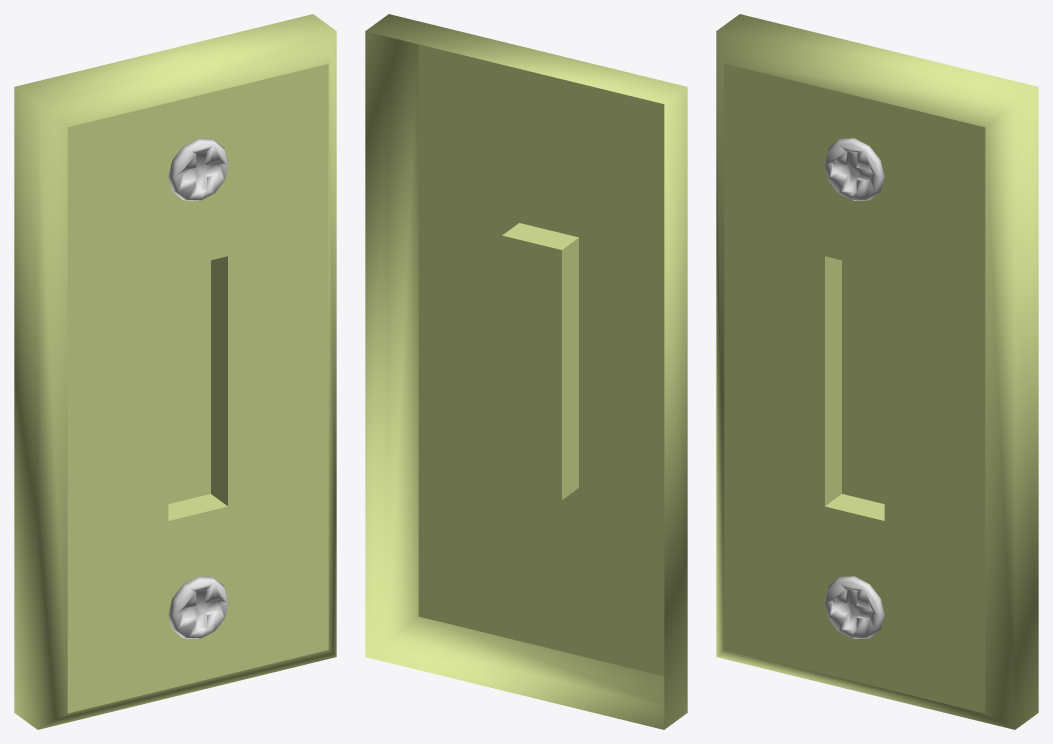
The model's file is light_switch.glb.
3 renders of one model, left to right at view 1: azimuth 30°, elevation 25°; view 2: azimuth 150°, elevation 25°; view 3: azimuth 330°, elevation 25°, orthographic.
Visible parts, largest first — view 1: Panel, TopScrew, BottomScrew; view 2: Panel; view 3: Panel, TopScrew, BottomScrew.
Boxes of the visible parts, left/top/right/bottom form: Panel: left=14, top=14, right=336, bottom=729; TopScrew: left=168, top=138, right=228, bottom=200; BottomScrew: left=168, top=576, right=228, bottom=638; Panel: left=365, top=14, right=687, bottom=729; Panel: left=716, top=14, right=1038, bottom=729; TopScrew: left=824, top=138, right=884, bottom=200; BottomScrew: left=824, top=576, right=884, bottom=638.
Bounding box in the file's own units: 0.1 × 0.2 × 0.022.
